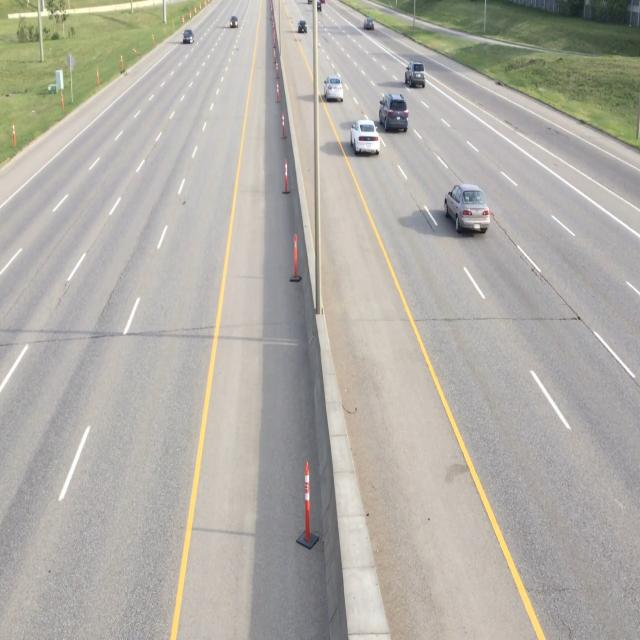Car: (444, 182, 490, 241), (380, 88, 409, 136), (350, 120, 382, 159), (406, 60, 426, 92), (323, 75, 345, 104)
